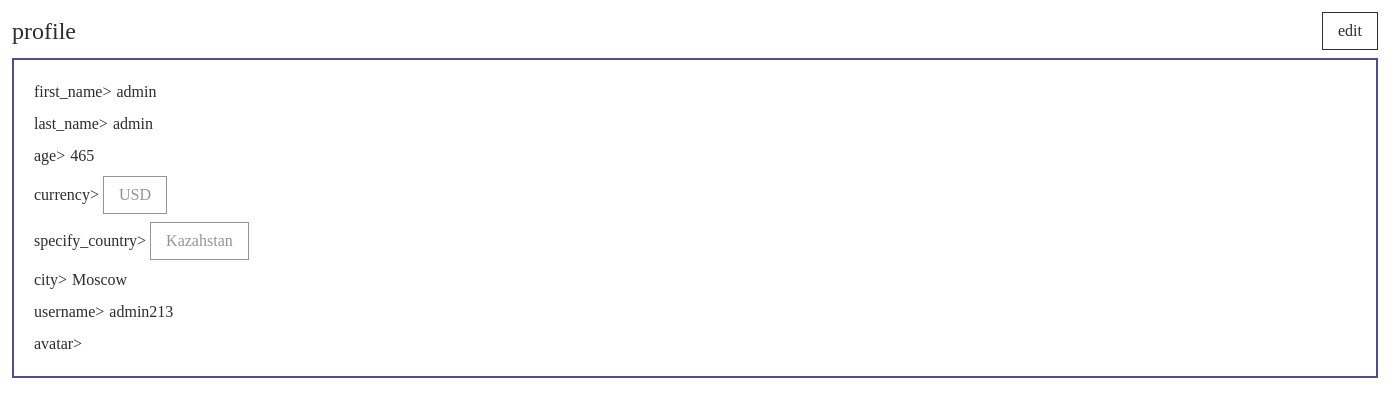
Test: features/EditableProfileCard › Режим рид онли должен переключиться
Click the button with test id "EditableProfileCardHeader.EditButton" at (1350, 31), box [1322,12,1378,50]
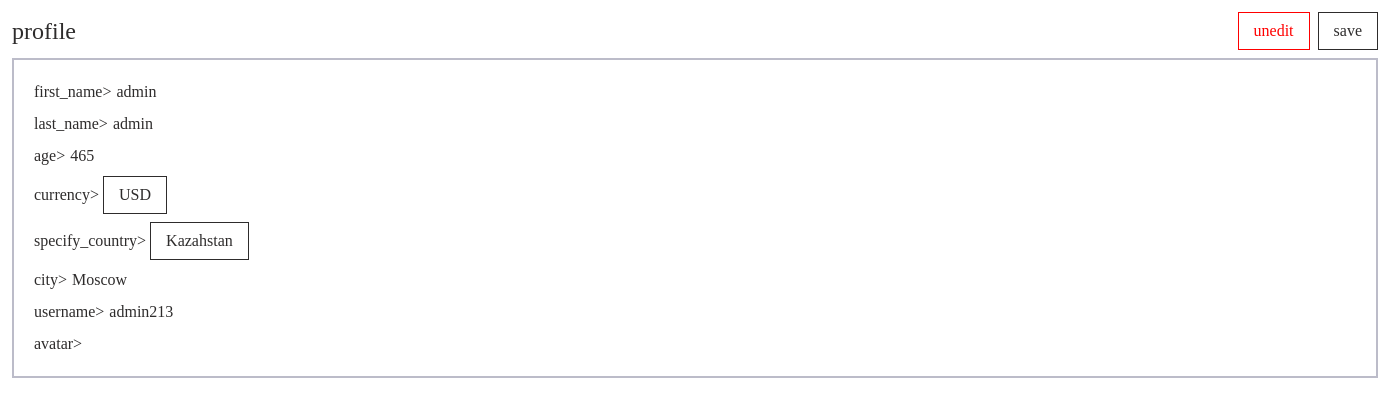
Now the button with test id "EditableProfileCardHeader.UneditButton" is shown, box [1238,12,1310,50]
